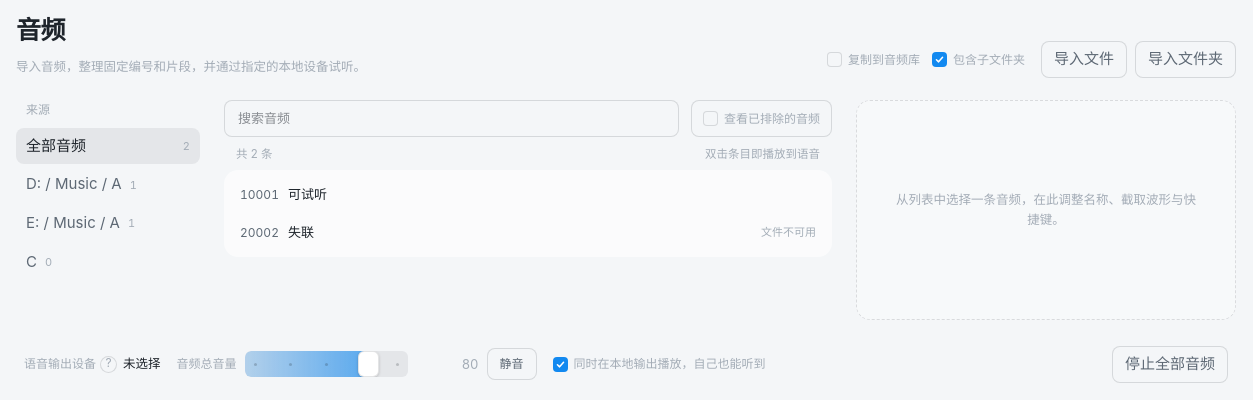
音频库页面 › 语音音频总音量滑块与静音使用独立的原生控制
The width and height of the screenshot is (1253, 400).
Set the slider labelled "80" to "60" at (362, 364), box x1=244 y1=351 x2=478 y2=377
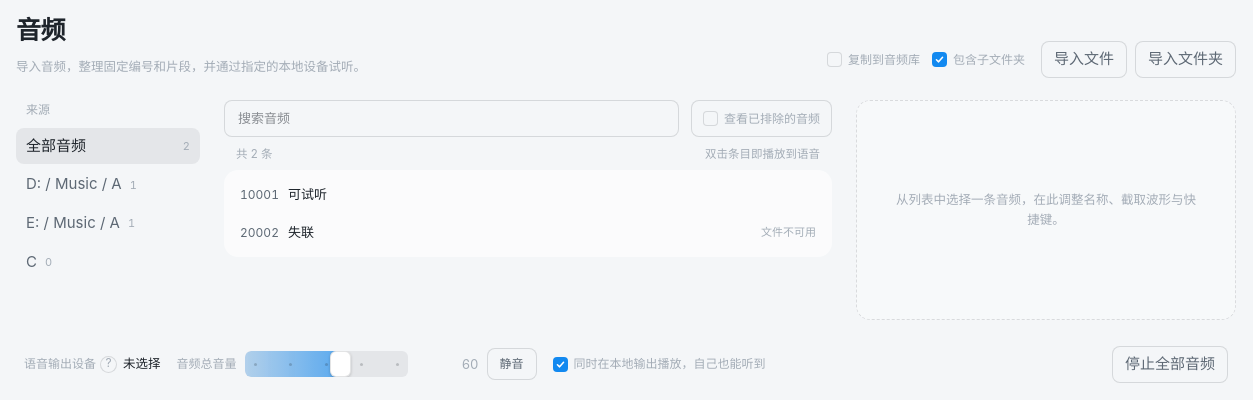
Click the button "静音".
click(512, 364)  # box x1=486 y1=348 x2=536 y2=380
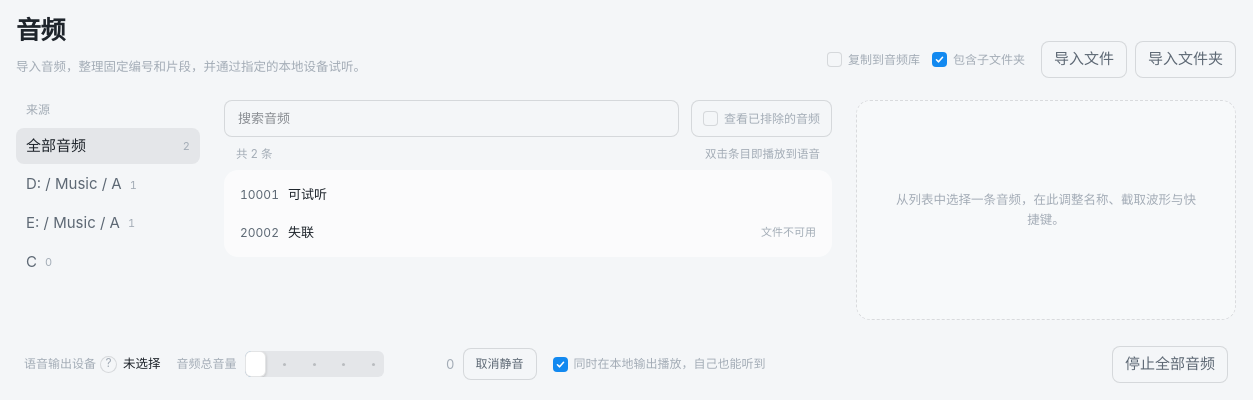
Now the text "取消静音" is shown, box x1=462 y1=348 x2=536 y2=380
